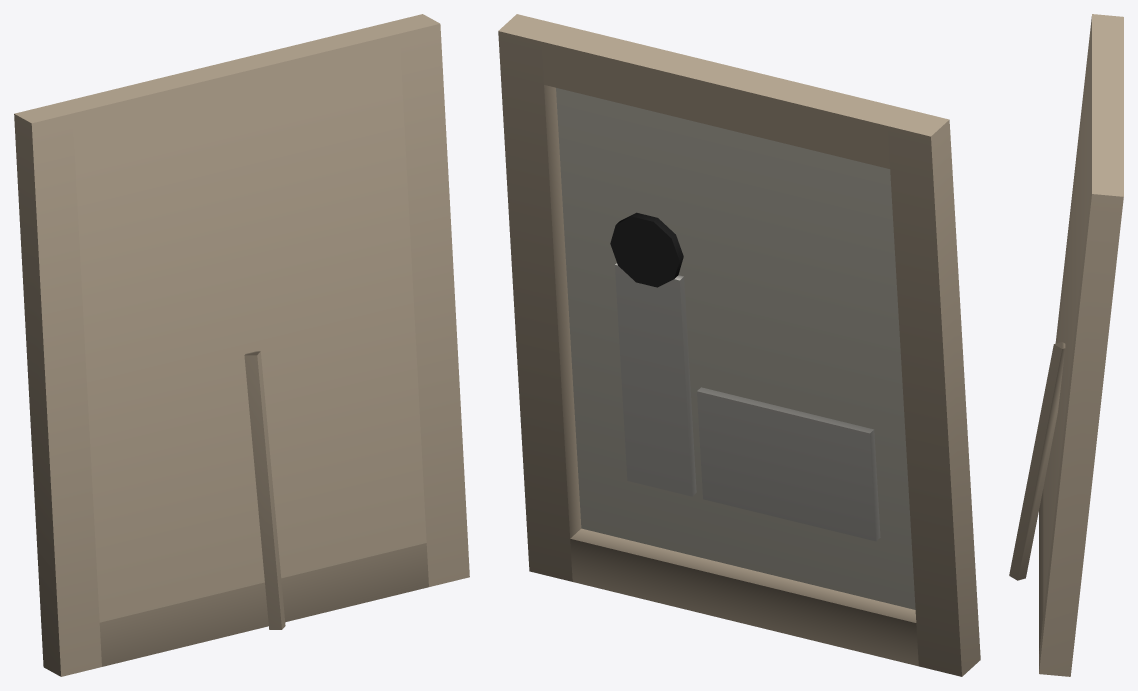
File: photo_church.glb
The picture shows the model from 3 angles, left to right: view 1: azimuth 30°, elevation 25°; view 2: azimuth 150°, elevation 25°; view 3: azimuth 270°, elevation 25°; orthographic projection. The views are drawn at different scales.
Visible parts, largest first — view 1: static; view 2: static; view 3: static.
Boxes of the visible parts, x1,y1,x2,y2 form: static: (14,14,469,676); static: (498,14,980,676); static: (1009,14,1123,676).
Size of the model in its own units: 0.2 by 0.2502 by 0.0539.
